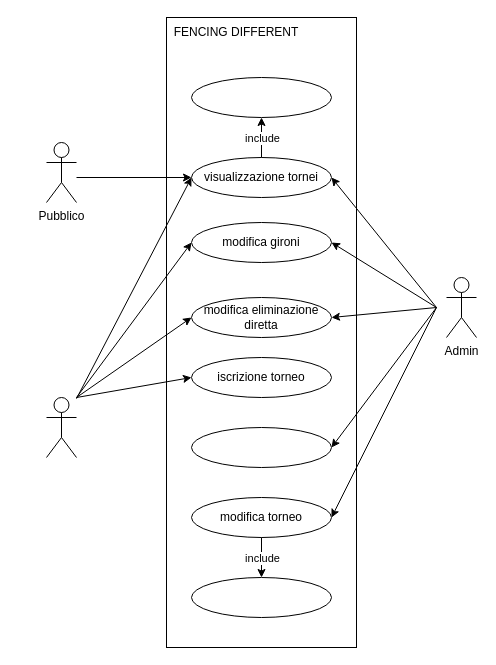
This 496x665 diagram has some shape labels left out. The shapes that lost their labels are listed below. From the top down, each one's box as (x1, y1, x2, y2) in pixels, then its label:
(190, 76, 332, 118): visualizzazione dettagli
(46, 396, 76, 458): Utente registrato
(190, 426, 332, 468): inserimento torneo
(190, 576, 332, 618): inserimento partecipanti
